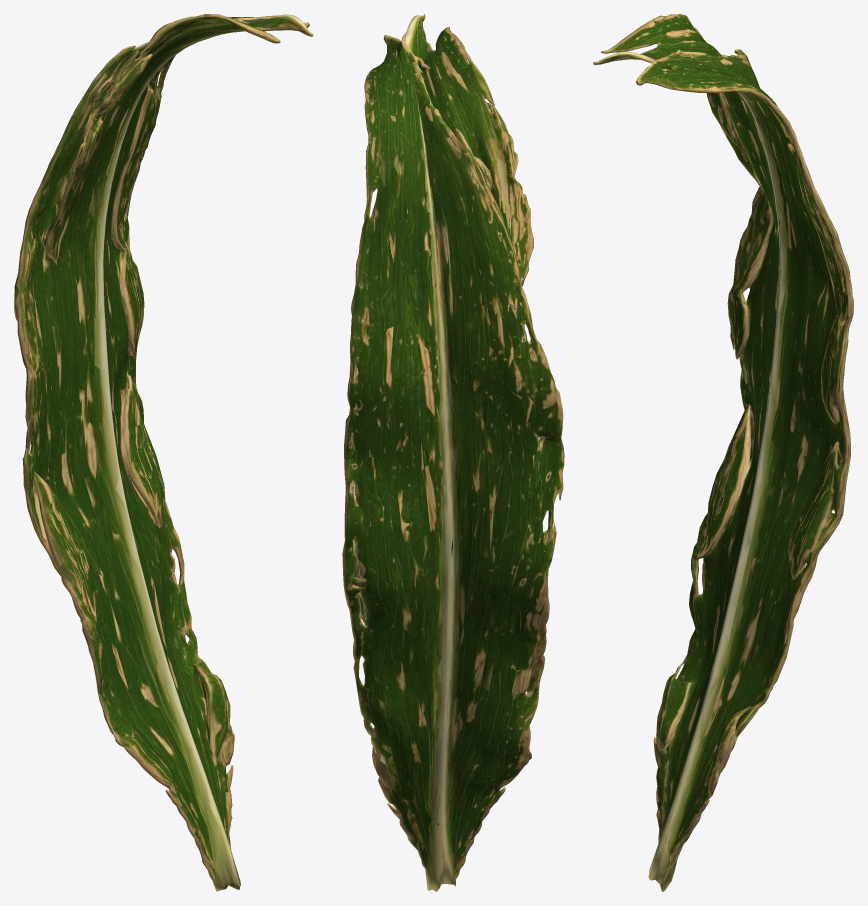
Rendered from corn_gray_leaf_spot.glb.
3 renders of one model, left to right at view 1: azimuth 30°, elevation 25°; view 2: azimuth 150°, elevation 25°; view 3: azimuth 270°, elevation 25°, orthographic. The views are drawn at different scales.
Visible parts, largest first — view 1: corn_gray_leaf_spot; view 2: corn_gray_leaf_spot; view 3: corn_gray_leaf_spot.
Part boxes in pixels (x1,y1,x2,y2): corn_gray_leaf_spot: [14, 14, 313, 891]; corn_gray_leaf_spot: [342, 14, 564, 891]; corn_gray_leaf_spot: [593, 14, 853, 891].
Size of the model in its own units: 0.2812 by 0.9997 by 0.2747.
1 material, 1 textured.
